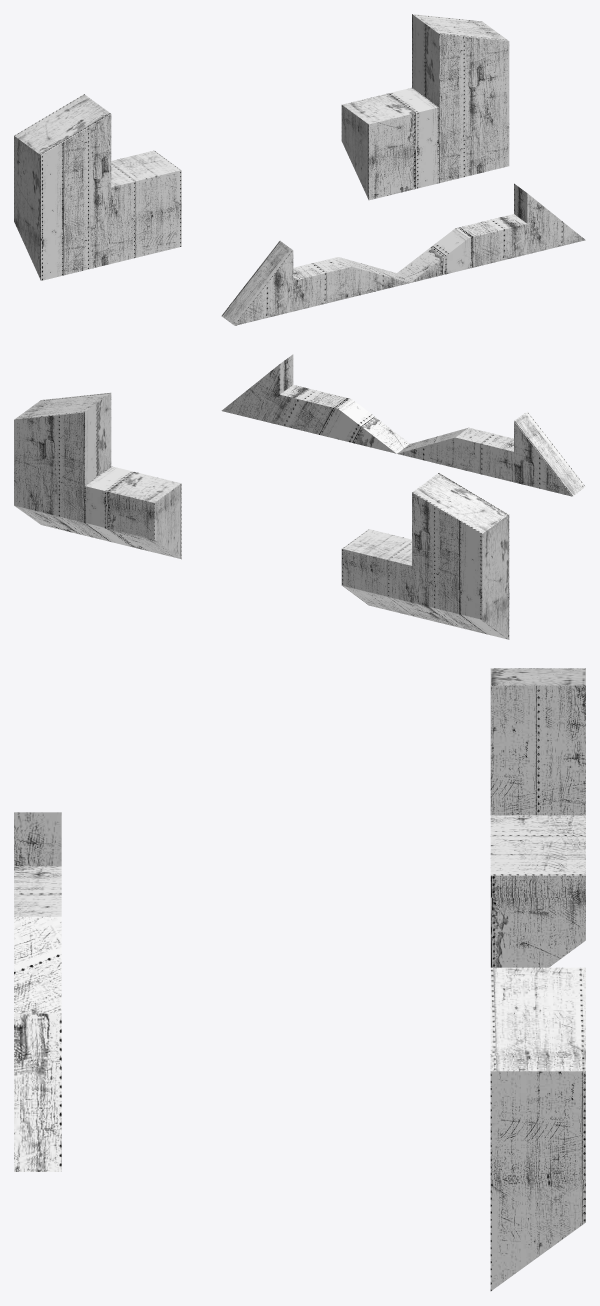
File: paddle_beam_attachment.obj
3 views of the same model, one above another, from view 1: azimuth 30°, elevation 25°; view 2: azimuth 150°, elevation 25°; view 3: azimuth 270°, elevation 25° (orthographic). The views are drawn at different scales.
Visible parts, largest first — view 1: Mesh2 Model, Mesh1 Model, Mesh3 Model; view 2: Mesh2 Model, Mesh1 Model, Mesh3 Model; view 3: Mesh2 Model, Mesh1 Model, Mesh3 Model.
Boxes of the visible parts, <box> form: Mesh2 Model: <box>14,94,181,280</box>; Mesh1 Model: <box>341,14,509,200</box>; Mesh3 Model: <box>221,183,585,325</box>; Mesh2 Model: <box>341,473,509,639</box>; Mesh1 Model: <box>14,392,181,559</box>; Mesh3 Model: <box>221,354,585,496</box>; Mesh2 Model: <box>490,668,585,967</box>; Mesh1 Model: <box>490,967,585,1290</box>; Mesh3 Model: <box>14,812,61,1171</box>.
Size of the model in its own units: 2 by 0.6125 by 1.2.
